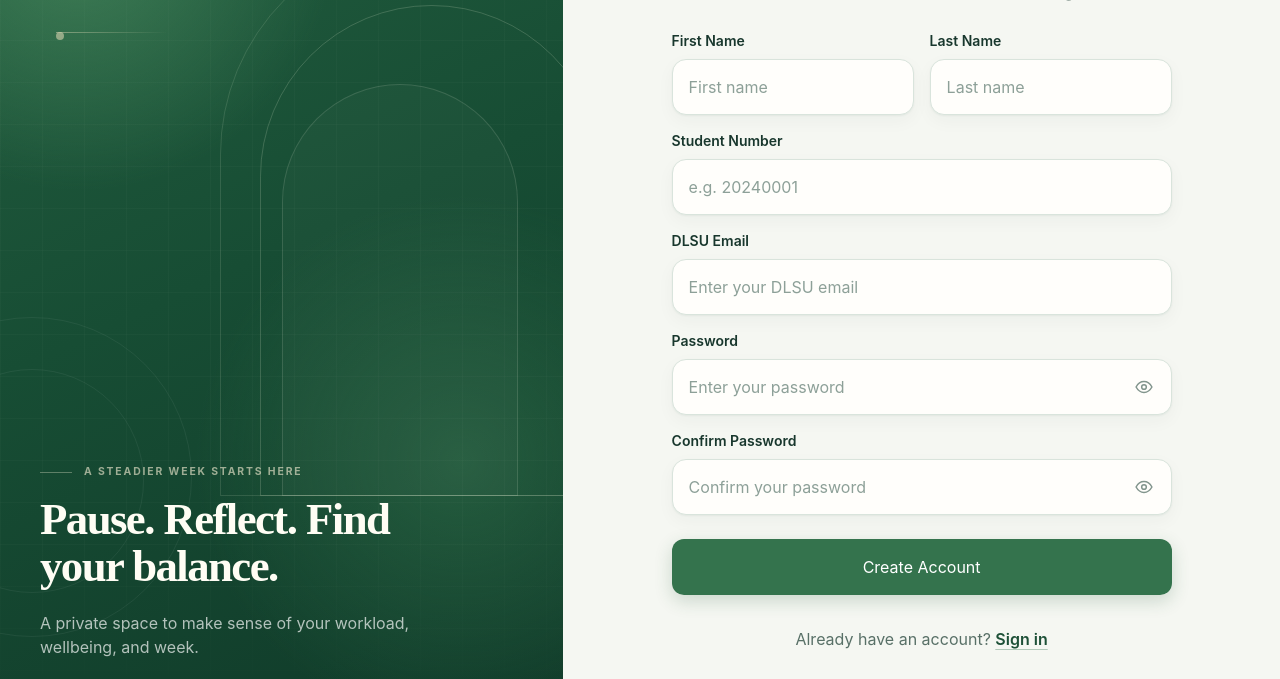
Scenario: authentication forms › blocks invalid registration before making a request
This screenshot has width=1280, height=679.
(page scrolled)
Click the button "Create Account" at (922, 567), box [672,539,1172,595]
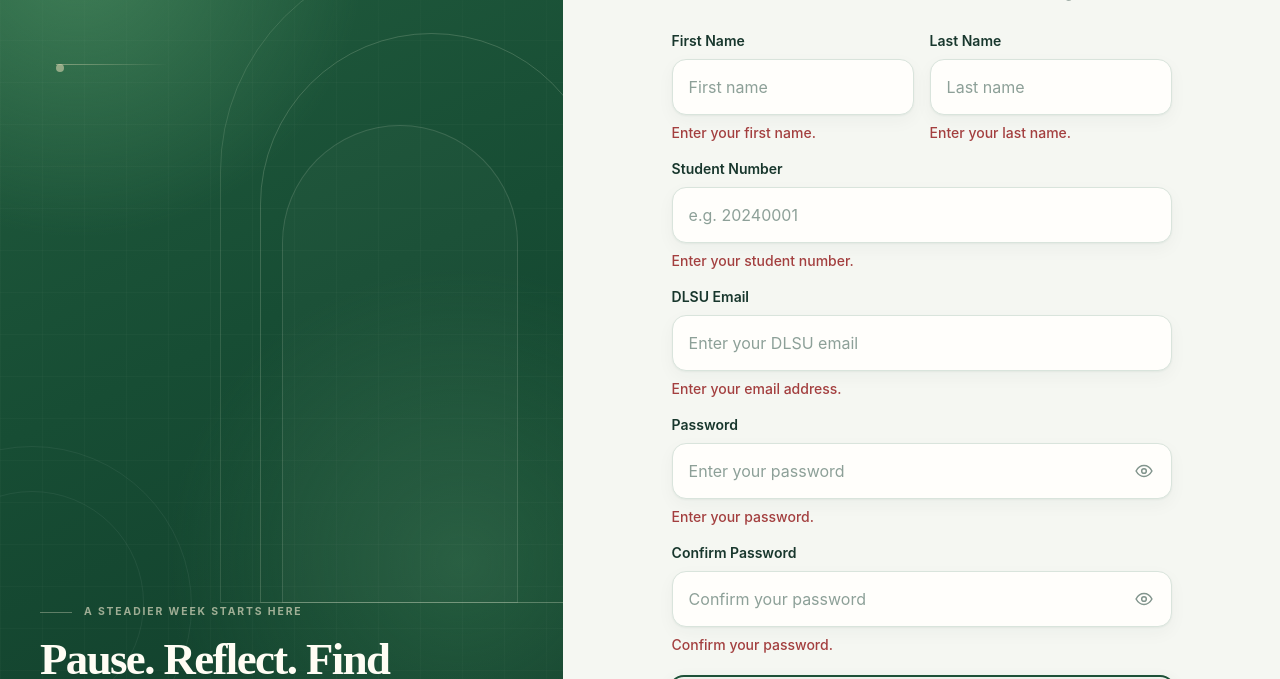
Now the text "Enter your student number." is shown, box [672,252,854,269]
Now the text "Enter your password." is shown, box [672,508,814,525]
